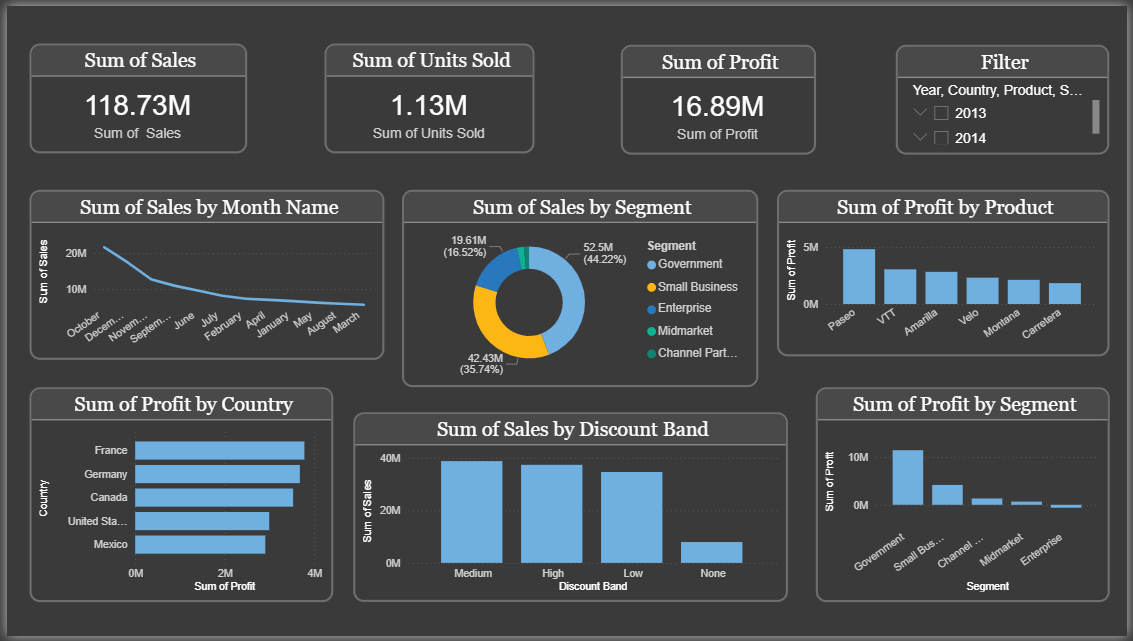

What the dashboard file says about the page in this screenshot:
{"tool":"powerbi","page":{"name":"Page 1","canvas":[1280,720],"ordinal":0},"visuals":[{"type":"card","title":"Sum of Sales","fields":{"Values":["Sum(Sheet1. Sales)"]},"box":[25.7,42.9,248.6,125.7],"z":0},{"type":"card","title":"Sum of Profit","fields":{"Values":["Sum(Sheet1.Profit)"]},"box":[701.4,44.3,222.9,125.7],"z":1000},{"type":"card","title":"Sum of Units Sold","fields":{"Values":["Sum(Sheet1.Units Sold)"]},"box":[362.9,42.9,240,125.7],"z":2000},{"type":"clusteredBarChart","fields":{"Y":["Sum(Sheet1.Profit)"],"Category":["Sheet1.Country"]},"box":[25.7,435.7,347.1,245.7],"z":3000},{"type":"clusteredColumnChart","fields":{"Category":["Sheet1.Product"],"Y":["Sum(Sheet1.Profit)"]},"box":[880,210,380,190],"z":4000},{"type":"lineChart","fields":{"Category":["Sheet1.Month Name"],"Y":["Sum(Sheet1. Sales)"]},"box":[25.7,211.4,405.7,194.3],"z":5000},{"type":"donutChart","fields":{"Category":["Sheet1.Segment"],"Y":["Sum(Sheet1. Sales)"]},"box":[451.4,210,407.1,225.7],"z":6000},{"type":"clusteredColumnChart","fields":{"Category":["Sheet1.Discount Band"],"Y":["Sum(Sheet1. Sales)"]},"box":[395.7,464.3,497.1,217.1],"z":8000},{"type":"clusteredColumnChart","fields":{"Category":["Sheet1.Segment"],"Y":["Sum(Sheet1.Profit)"]},"box":[924.3,435.7,335.7,245.7],"z":10000},{"type":"slicer","title":"Filter","fields":{"Values":["Sheet1.Year","Sheet1.Country","Sheet1.Product","Sheet1.Segment","Sheet1.Discount Band","Sheet1.Month Name"]},"box":[1015.7,44.3,244.3,125.7],"z":11000}]}

Visuals, with their boxes in screenshot pixels (x1, y1, x2, y2), scaled from the page's 1280x720 canvas onto the 1133x641 screenshot:
"Sum of Sales" card: crop(23, 38, 243, 150)
"Sum of Profit" card: crop(621, 39, 818, 151)
"Sum of Units Sold" card: crop(321, 38, 534, 150)
clusteredBarChart - Sum(Sheet1.Profit) x Sheet1.Country: crop(23, 388, 330, 607)
clusteredColumnChart - Sheet1.Product x Sum(Sheet1.Profit): crop(779, 187, 1115, 356)
lineChart - Sheet1.Month Name x Sum(Sheet1. Sales): crop(23, 188, 382, 361)
donutChart - Sheet1.Segment x Sum(Sheet1. Sales): crop(400, 187, 760, 388)
clusteredColumnChart - Sheet1.Discount Band x Sum(Sheet1. Sales): crop(350, 413, 790, 607)
clusteredColumnChart - Sheet1.Segment x Sum(Sheet1.Profit): crop(818, 388, 1115, 607)
"Filter" slicer: crop(899, 39, 1115, 151)
